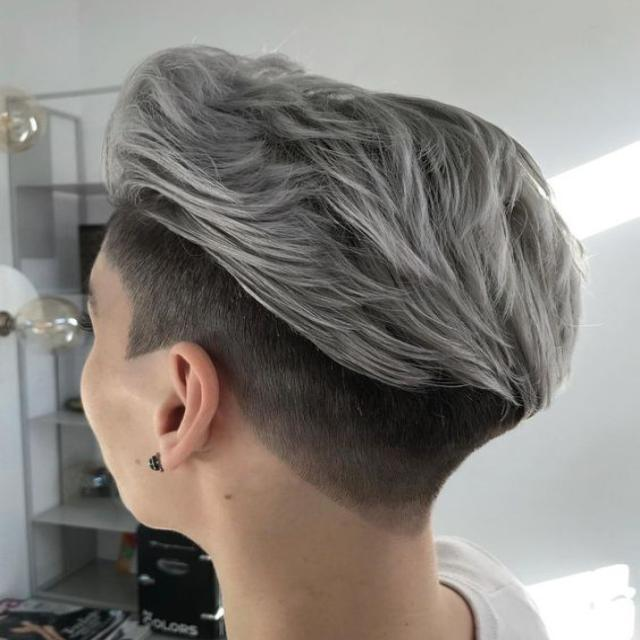Nonhelmet: (76, 41, 589, 536)
